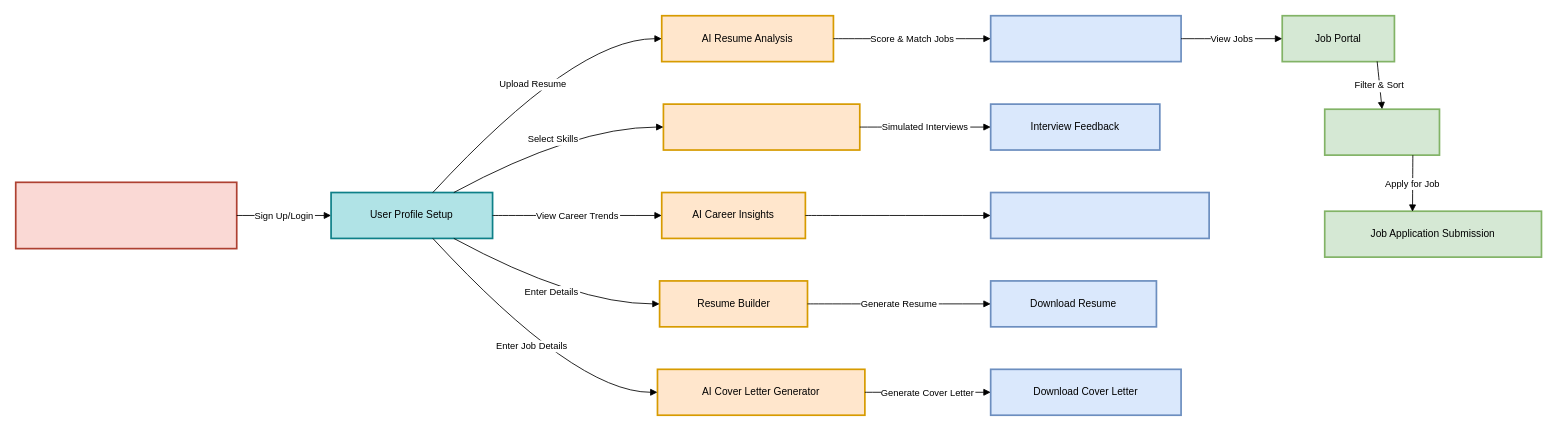
Image size: 1556x430. Some labels were removed from this diagram. The box of each missing label's shape, as (x1, y1, x2, y2) in pixels:
AI Interview Preparation: (662, 103, 860, 150)
Career Growth Suggestions: (989, 191, 1210, 239)
Job Listings: (1323, 108, 1440, 156)
Job Recommendations: (989, 14, 1182, 62)
User Registration & Authentication: (14, 181, 237, 249)
